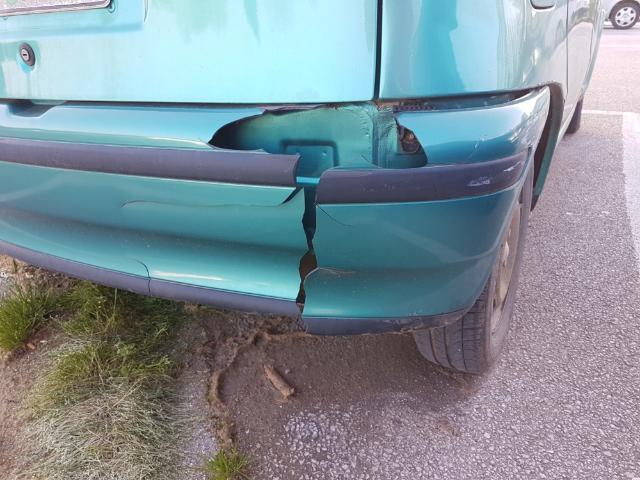crack: (120, 104, 430, 332), (127, 258, 151, 296)
